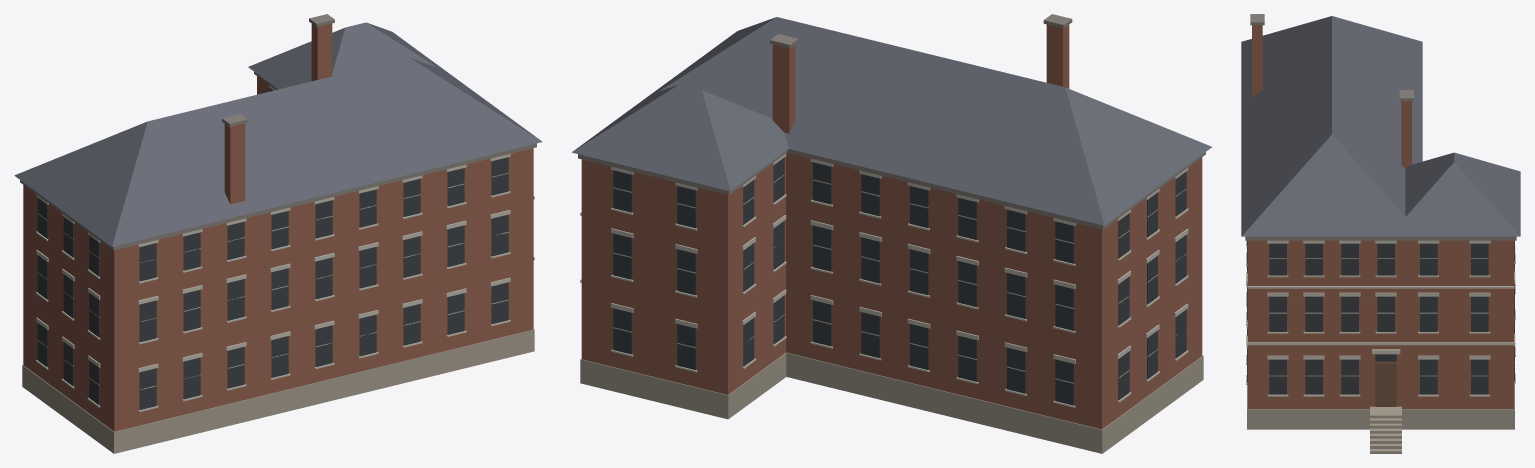
Rendered from house_1922_calumet__draft_1904.glb.
3 renders of one model, left to right at view 1: azimuth 30°, elevation 25°; view 2: azimuth 150°, elevation 25°; view 3: azimuth 270°, elevation 25°, orthographic. The views are drawn at different scales.
Parts seen in each view (by area): view 1: house_1922_calumet__draft_1904; view 2: house_1922_calumet__draft_1904; view 3: house_1922_calumet__draft_1904.
Boxes of the visible parts, x1,y1,x2,y2 form: house_1922_calumet__draft_1904: [14, 14, 542, 453]; house_1922_calumet__draft_1904: [571, 14, 1211, 453]; house_1922_calumet__draft_1904: [1241, 14, 1520, 453].
Size of the model in its own units: 28.9 by 17.26 by 15.7.
